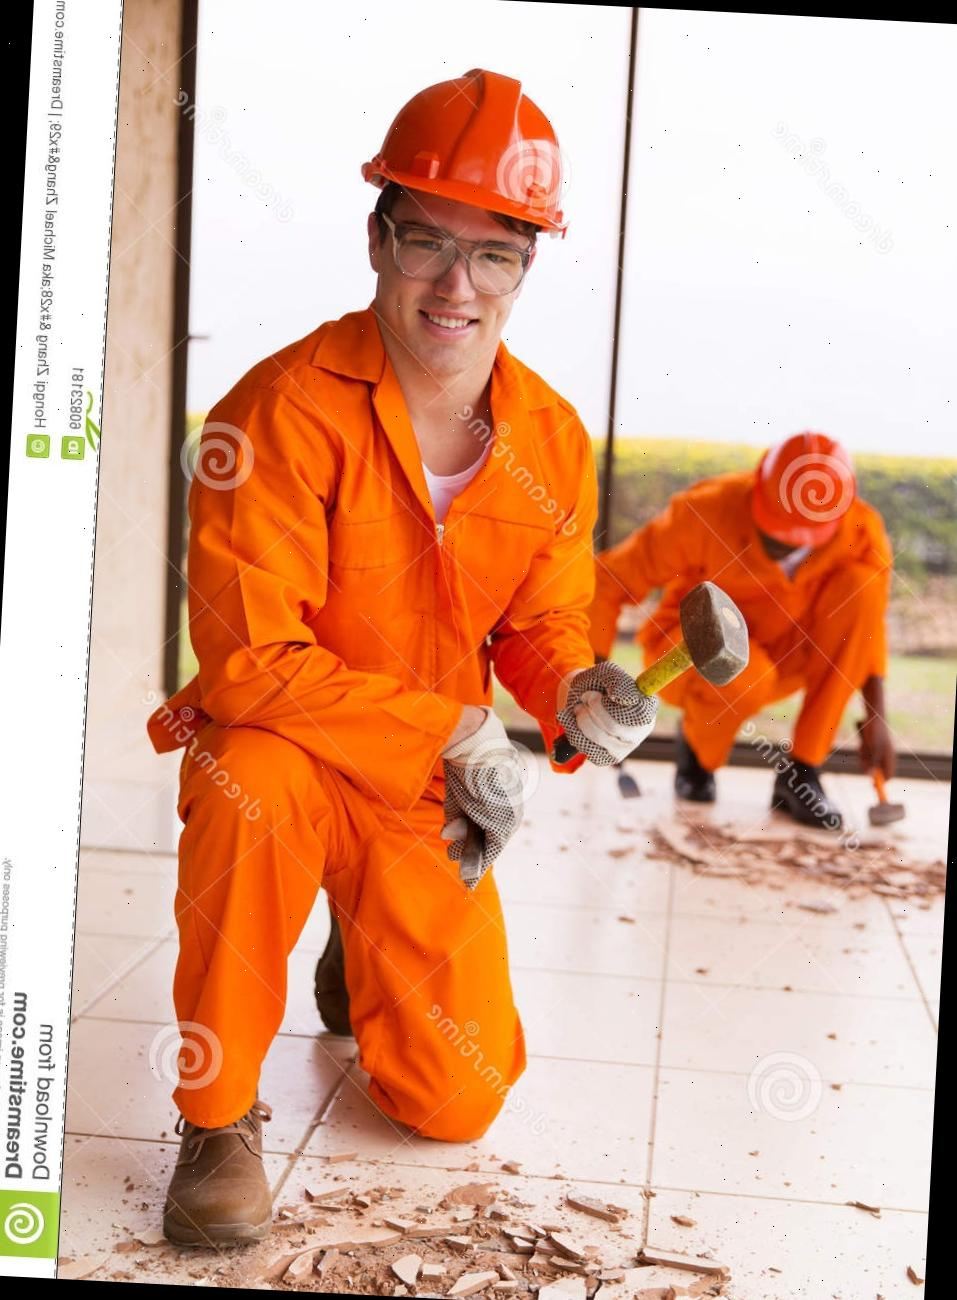helmet: (356, 55, 575, 234), (746, 429, 865, 553)
wear: (180, 373, 604, 739), (653, 535, 891, 705)
